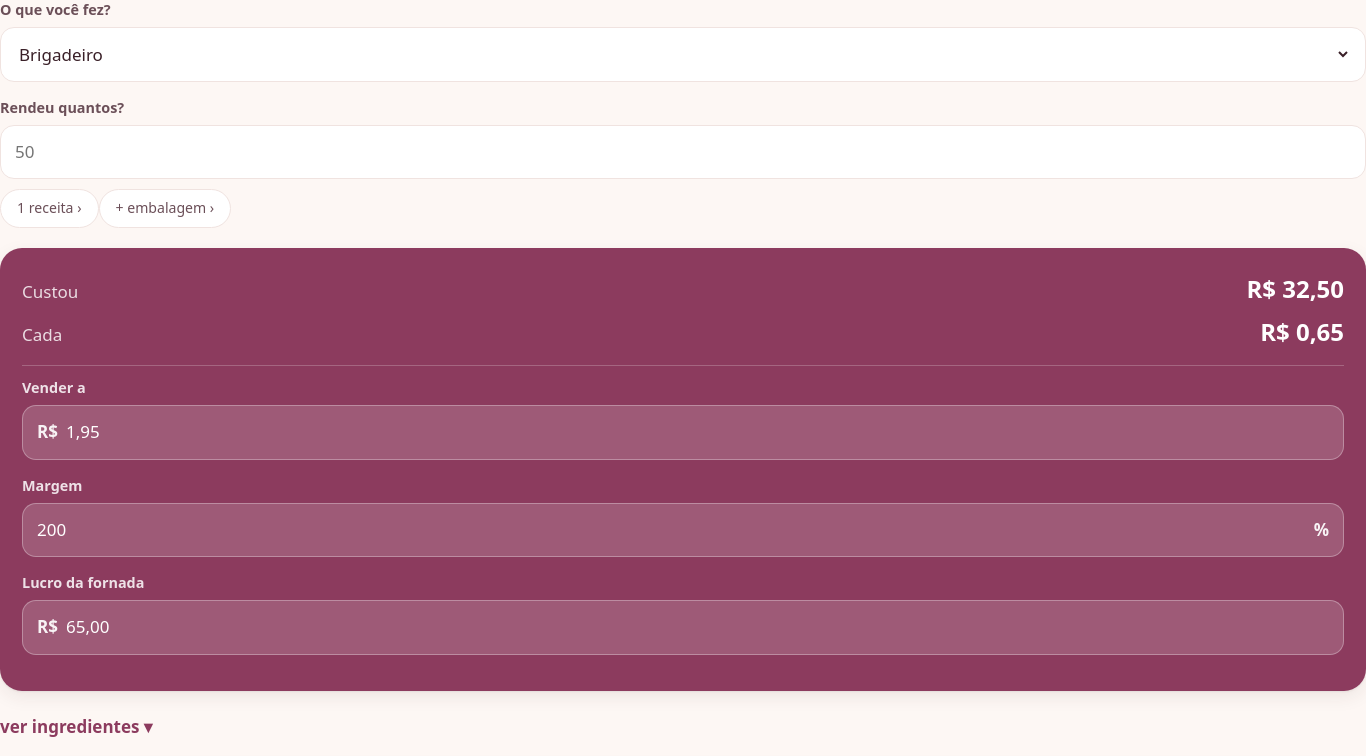
Test case: Calculadora › preço negativo digitado avisa em vez de mostrar margem e lucro
Step 1. Replace the text in the field labelled "Vender a" with "-1,00" → (698, 433), box [66,406,1329,459]
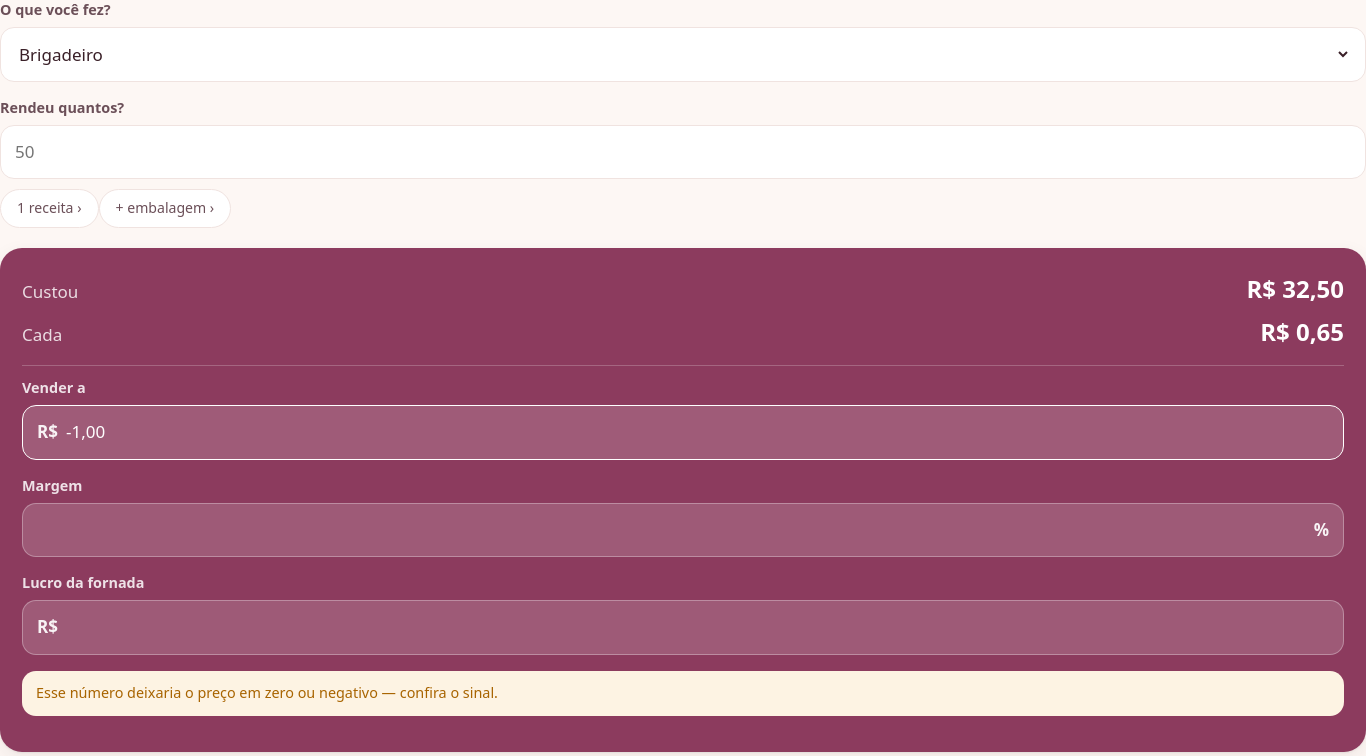
Now the field labelled "Margem" is empty, box [37,504,1306,556]
Now the text "Esse número deixaria o preço em zero ou negativo — confira o sinal." is shown, box [22,671,1344,716]
